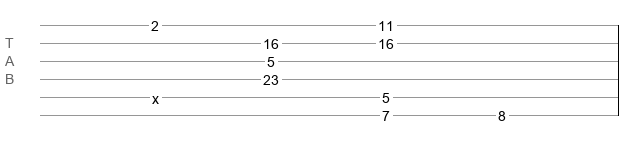11: (378, 18, 394, 28)
16: (263, 36, 279, 46), (378, 36, 394, 46)
2: (151, 18, 159, 28)
23: (263, 72, 279, 82)
5: (267, 54, 275, 64), (382, 90, 390, 100)
7: (382, 108, 390, 118)
8: (498, 108, 506, 118)
x: (152, 91, 159, 99)
